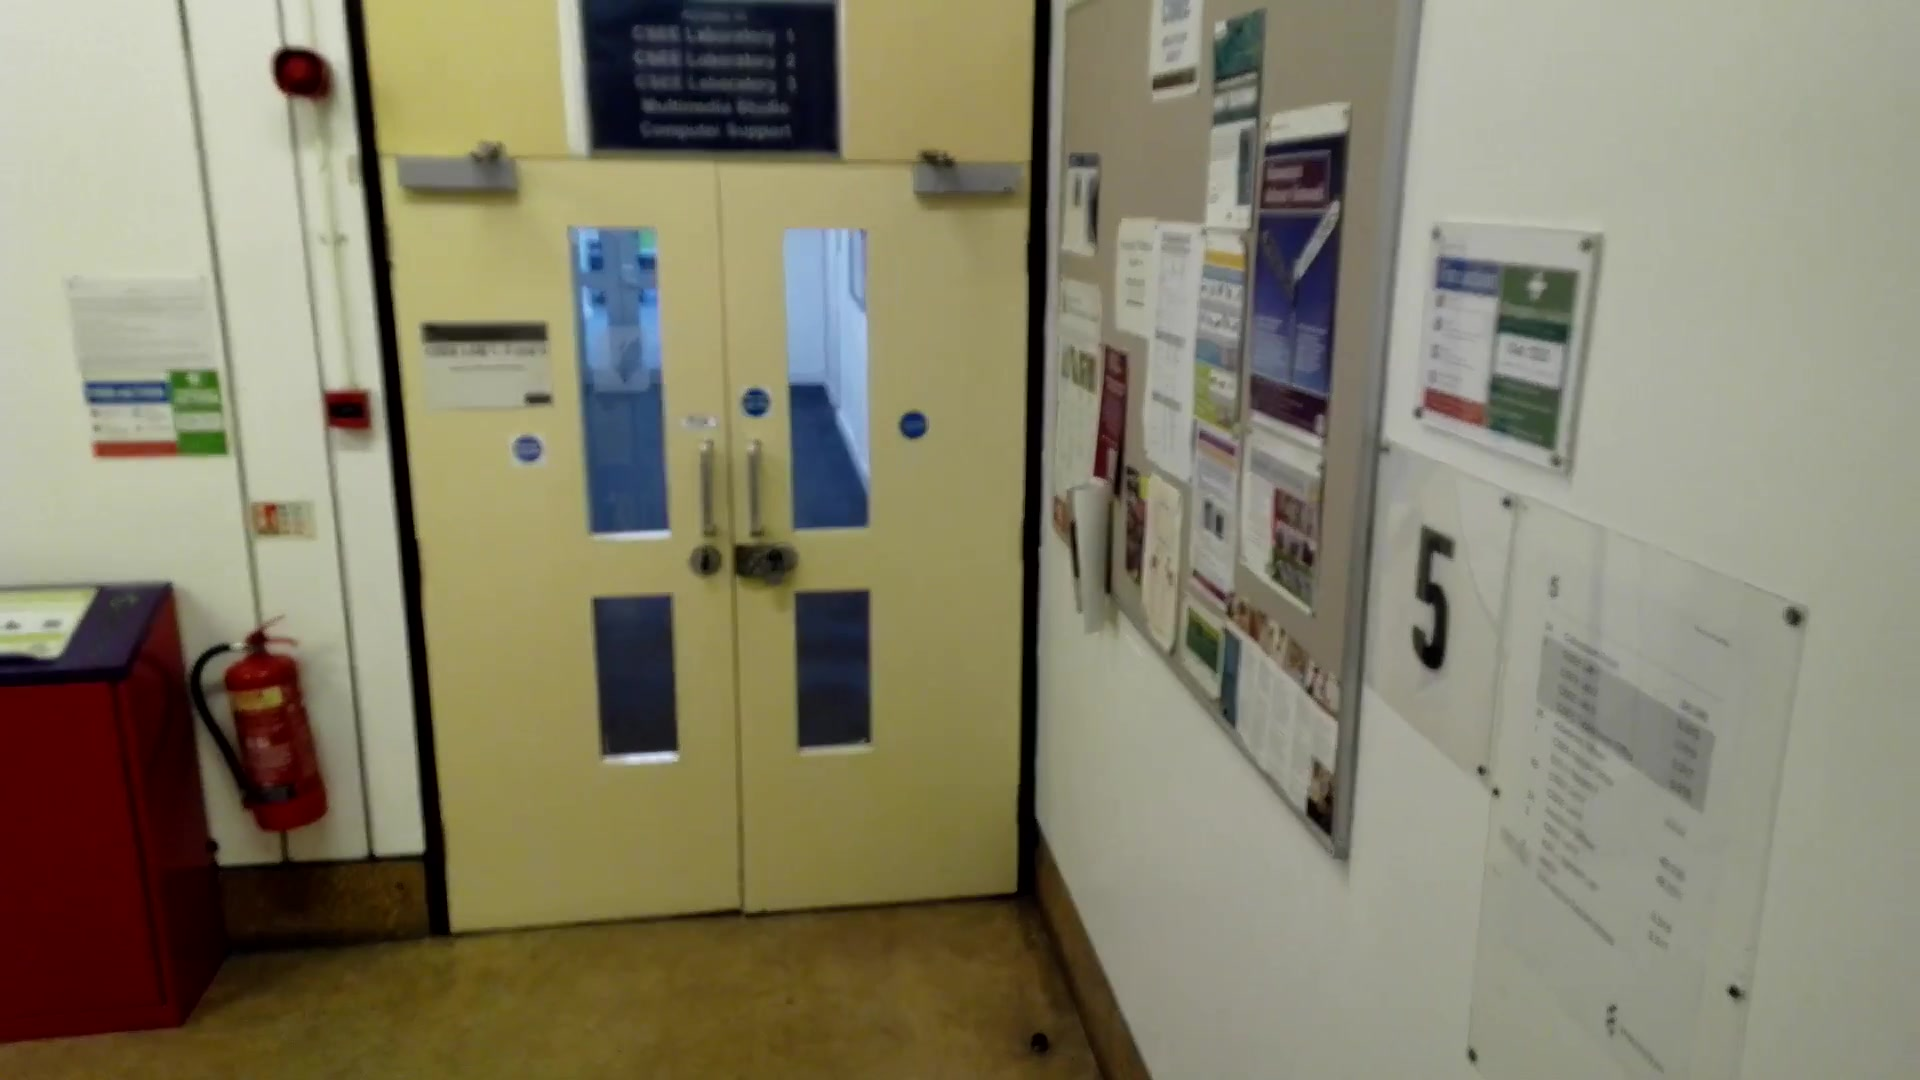Door: (353, 121, 1068, 947)
